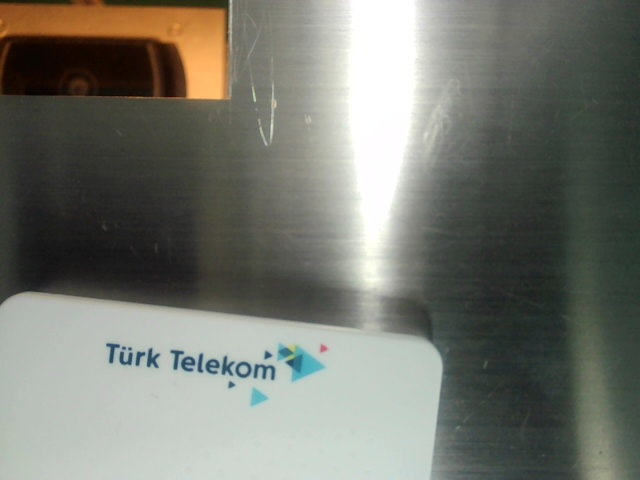AQ_TURKTelekom: (97, 308, 343, 408)
